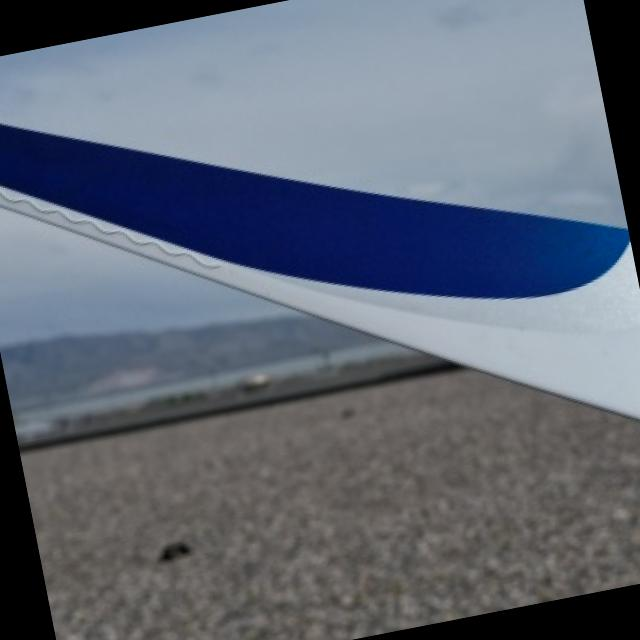healthy: (0, 0, 640, 413)
